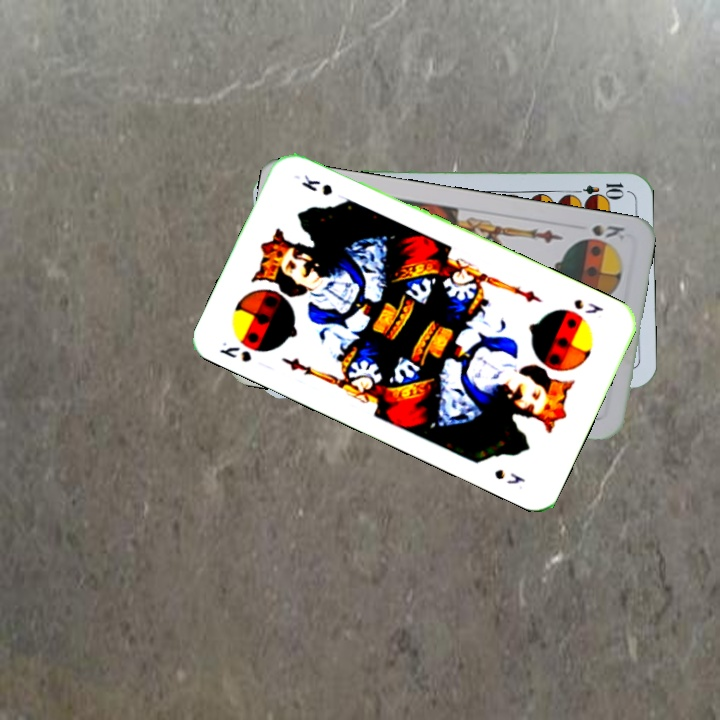E10: (568, 179, 627, 198)
SK: (215, 338, 254, 365), (588, 220, 627, 243), (569, 295, 606, 317)
